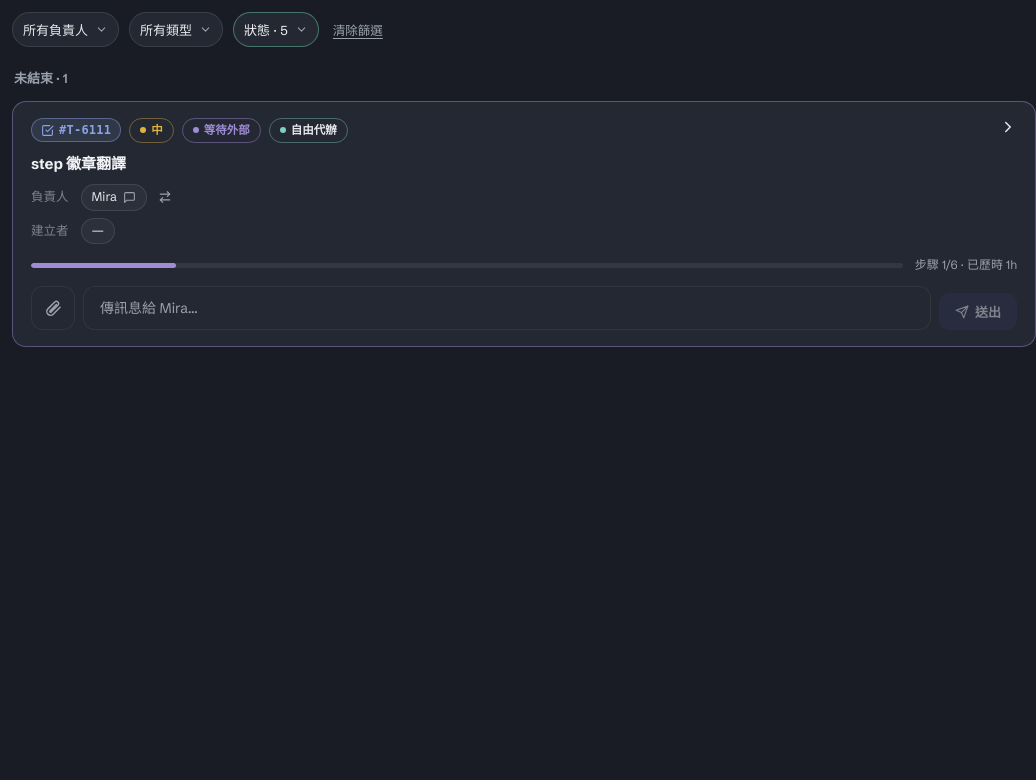
it: TaskCard step 徽章 i18n (T-6f11) › 六態 step 各渲染 zh 翻譯;waiting_external 與任務層同顯「等待外部」
Click the button with test id "task-card".
click(524, 332)  # box [12, 100, 1035, 347]
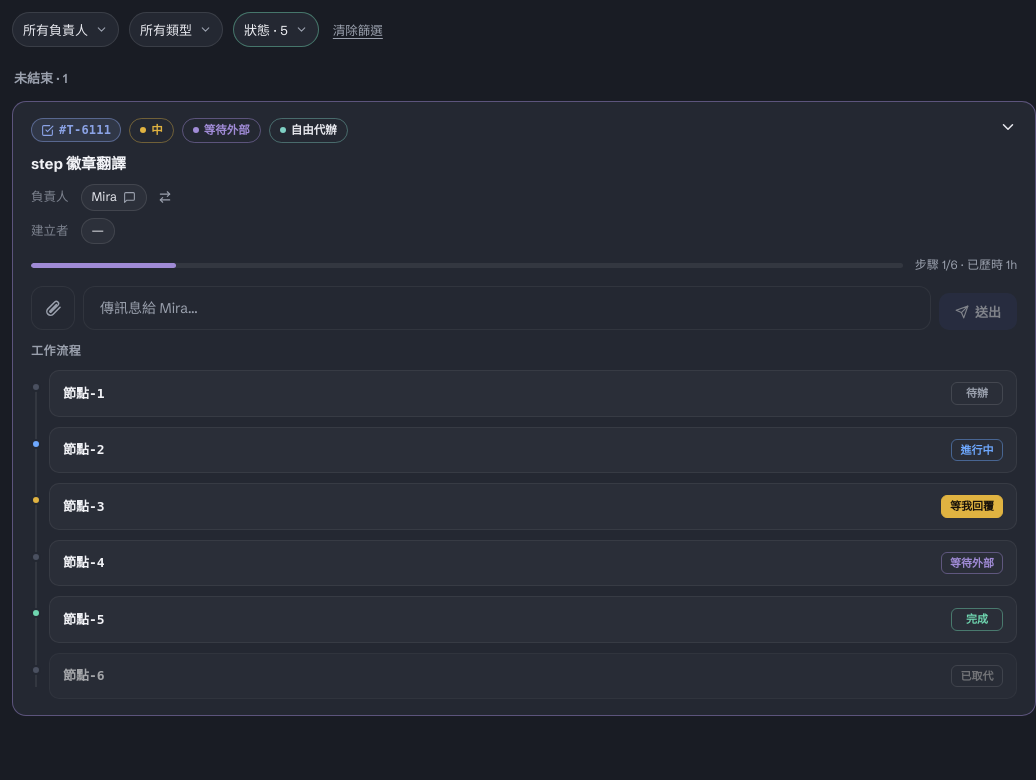
Expected: the button with test id "task-status" reads "等待外部", [182, 118, 261, 143]
Expected: the text "等待外部" is shown, [941, 552, 1003, 574]
